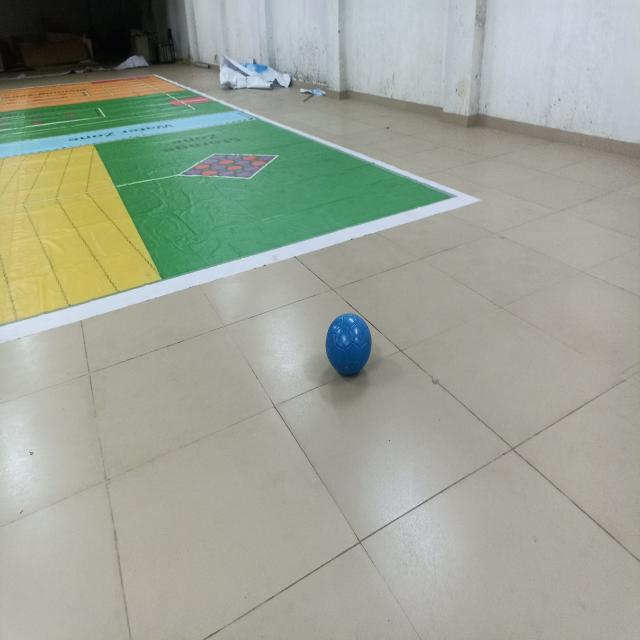blue_ball: (320, 312, 376, 384)
